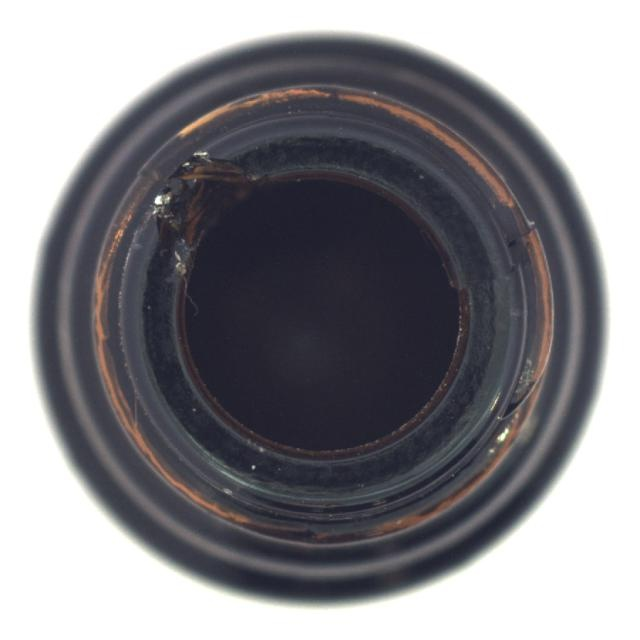bad-broken_small: (27, 28, 610, 610)
